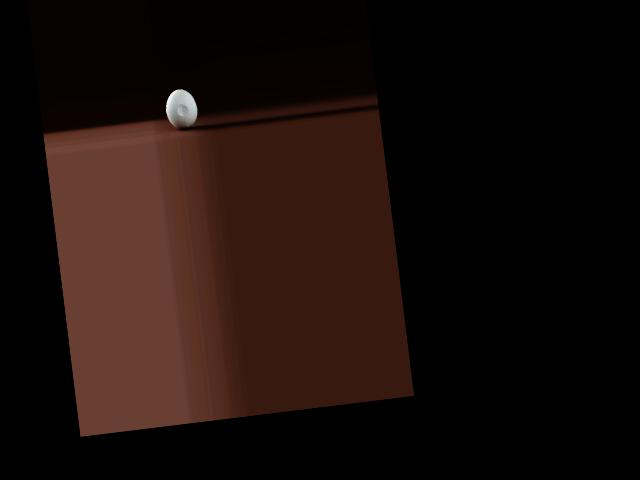egg: (163, 87, 199, 131)
